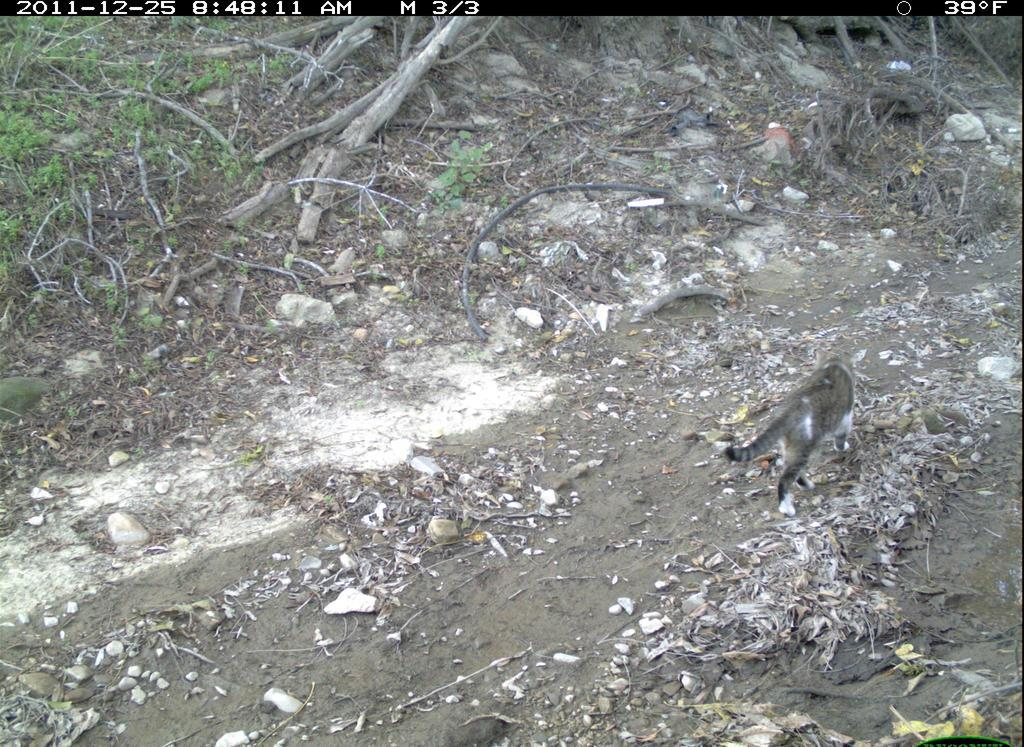cat: (719, 345, 877, 523)
